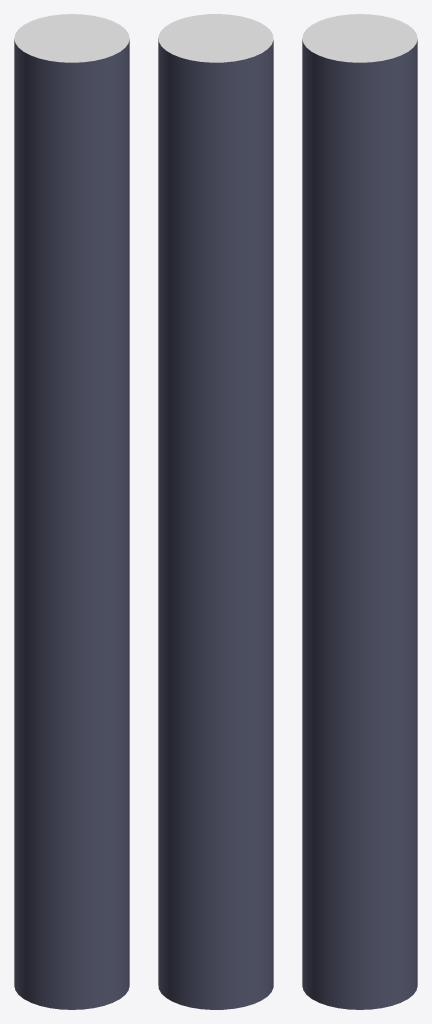
File: Floor.fbx
3 renders of one model, left to right at view 1: azimuth 90°, elevation 25°; view 2: azimuth 210°, elevation 25°; view 3: azimuth 270°, elevation 25°, orthographic.
Parts seen in each view (by area): view 1: Floor; view 2: Floor; view 3: Floor.
Boxes of the visible parts, left/top/right/bottom form: Floor: left=14, top=14, right=129, bottom=1009; Floor: left=158, top=14, right=273, bottom=1009; Floor: left=302, top=14, right=417, bottom=1009.
Size of the model in its own units: 200 by 1810 by 200.
